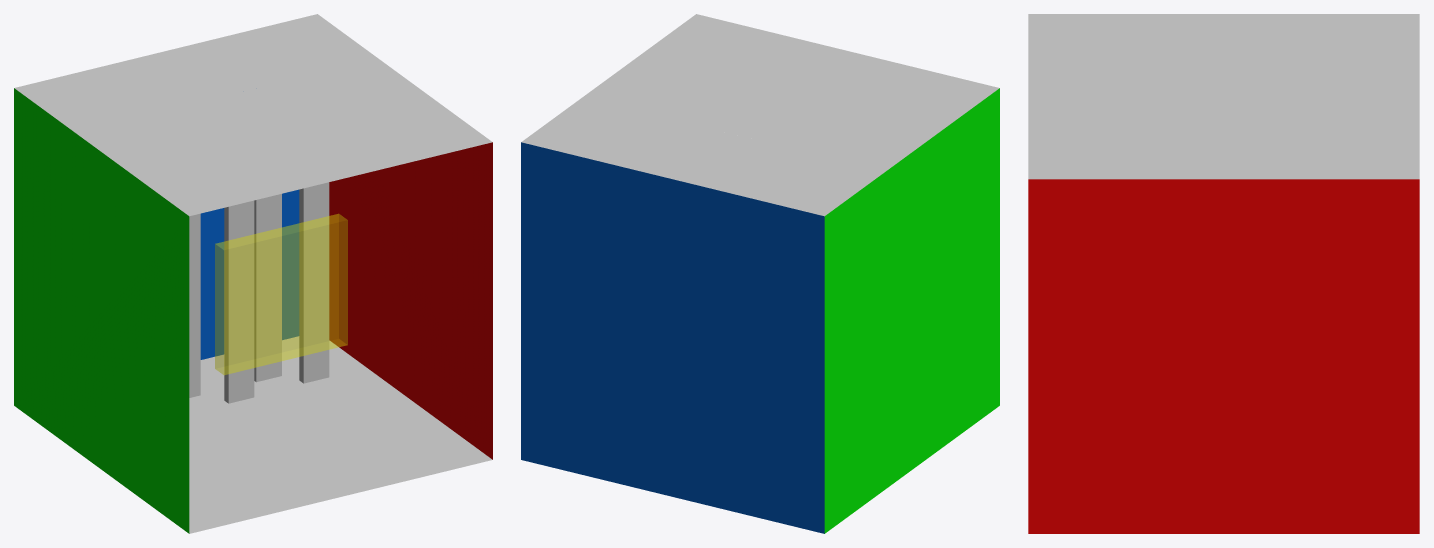
Rendered from transparent.obj.
The picture shows the model from 3 angles, left to right: view 1: azimuth 30°, elevation 25°; view 2: azimuth 150°, elevation 25°; view 3: azimuth 270°, elevation 25°; orthographic projection. The views are drawn at different scales.
Visible parts, largest first — view 1: Plane.001, Plane.004, Plane.002, Plane, Cube.001_Cube.009, Plane.003, Cube.005_Cube.007, Cube.002_Cube.004, Cube.006_Cube.008, Plane.005_Plane.006, Cube.004_Cube.006; view 2: Plane.003, Plane.001, Plane.004, Plane.005_Plane.006; view 3: Plane.002, Plane.004, Plane.005_Plane.006.
Part boxes in pixels (<box>): Plane.001: <box>14,88,189,533</box>; Plane.004: <box>14,14,492,216</box>; Plane.002: <box>329,142,492,459</box>; Plane: <box>189,336,492,533</box>; Cube.001_Cube.009: <box>215,214,347,374</box>; Plane.003: <box>200,189,299,359</box>; Cube.005_Cube.007: <box>224,200,254,403</box>; Cube.002_Cube.004: <box>299,182,329,383</box>; Cube.006_Cube.008: <box>254,194,281,382</box>; Plane.005_Plane.006: <box>197,85,311,133</box>; Cube.004_Cube.006: <box>189,213,200,397</box>; Plane.003: <box>521,142,824,533</box>; Plane.001: <box>824,88,999,533</box>; Plane.004: <box>521,14,999,216</box>; Plane.005_Plane.006: <box>691,93,806,141</box>; Plane.002: <box>1028,179,1419,533</box>; Plane.004: <box>1028,14,1419,179</box>; Plane.005_Plane.006: <box>1188,80,1282,119</box>.
Size of the model in its own units: 8.28 by 8.28 by 8.28.
